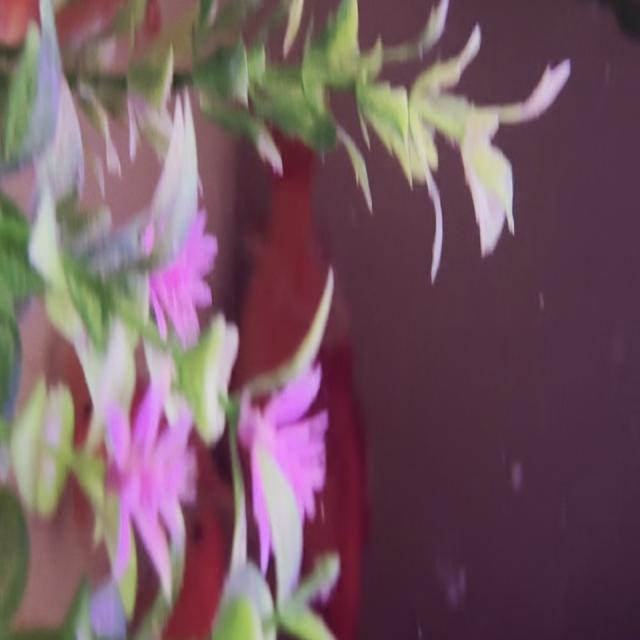fish: (229, 132, 365, 640), (111, 457, 238, 640)
